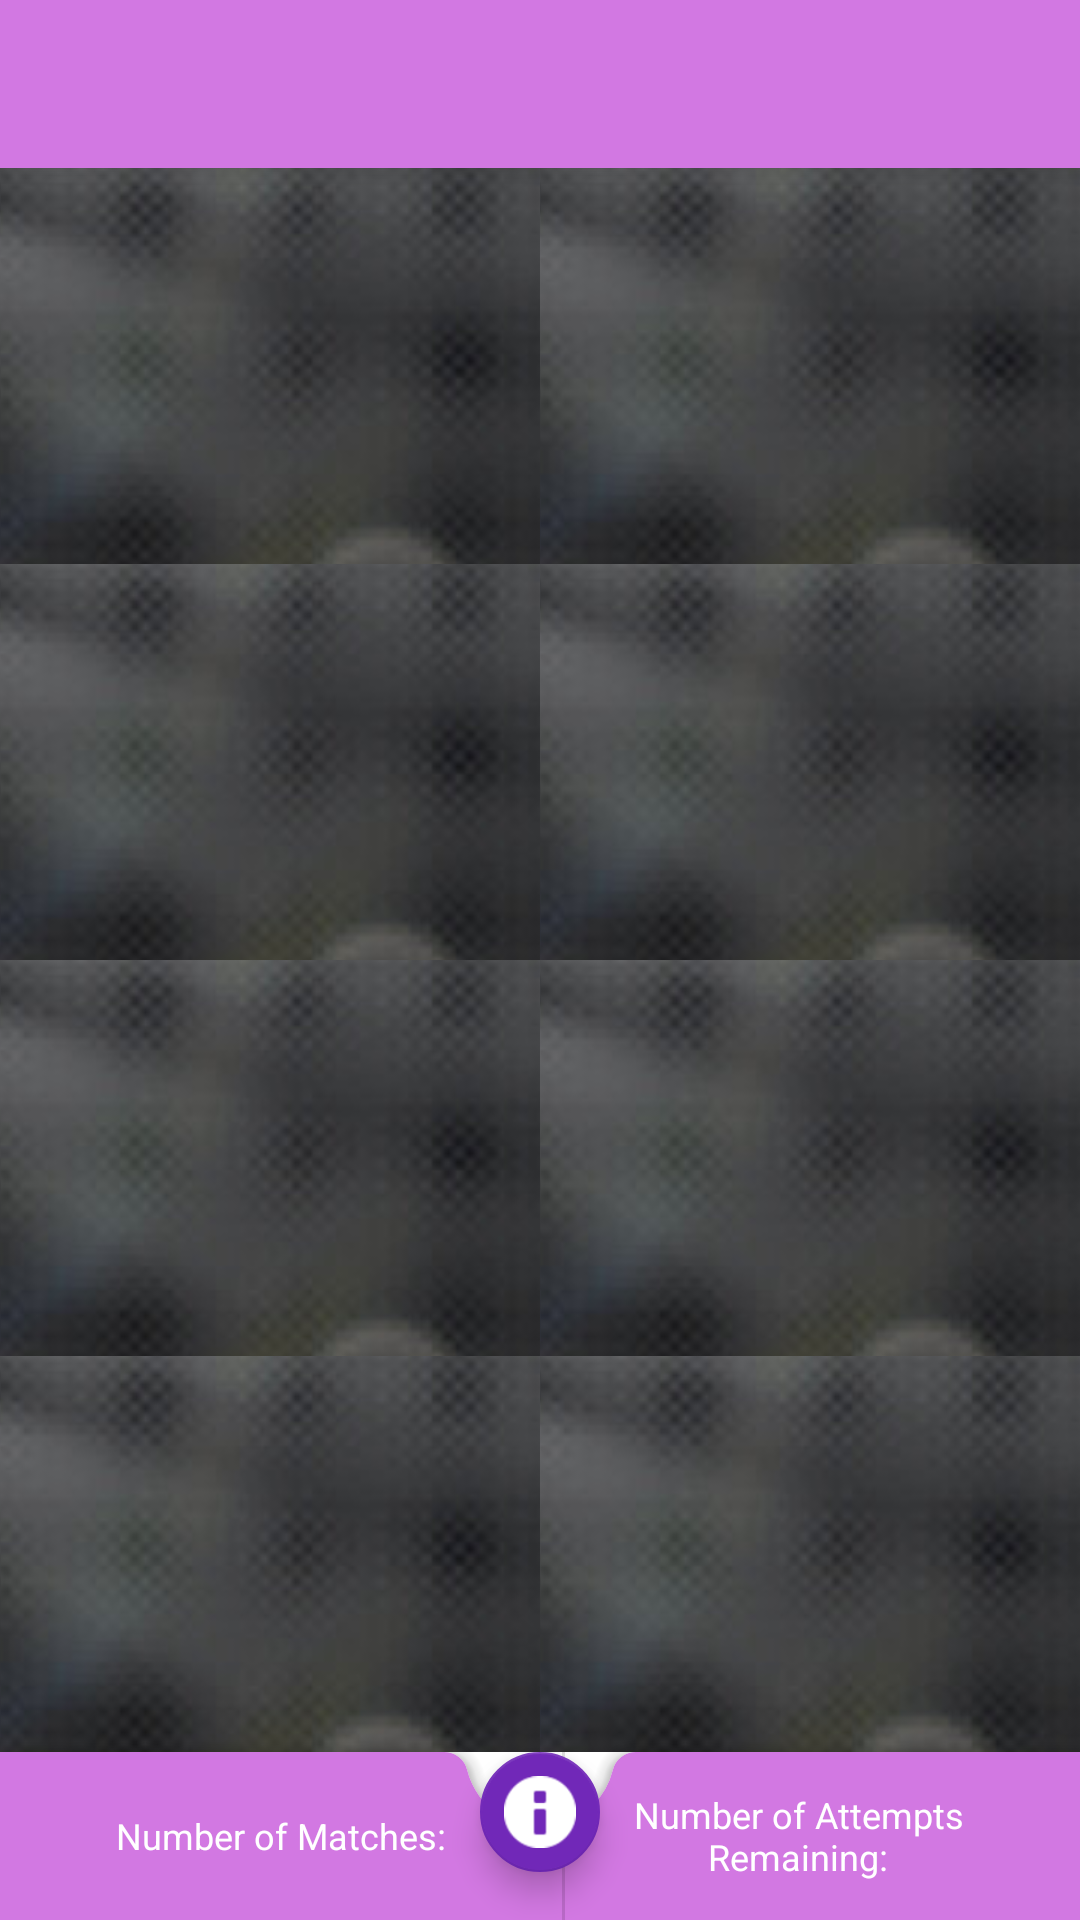

Locate icon controls on the screen. Image size 1080px x 1920px, boxes as [left=x1, top=y1, right=x2, bottom=y2].
info: [left=468, top=1740, right=612, bottom=1884]
